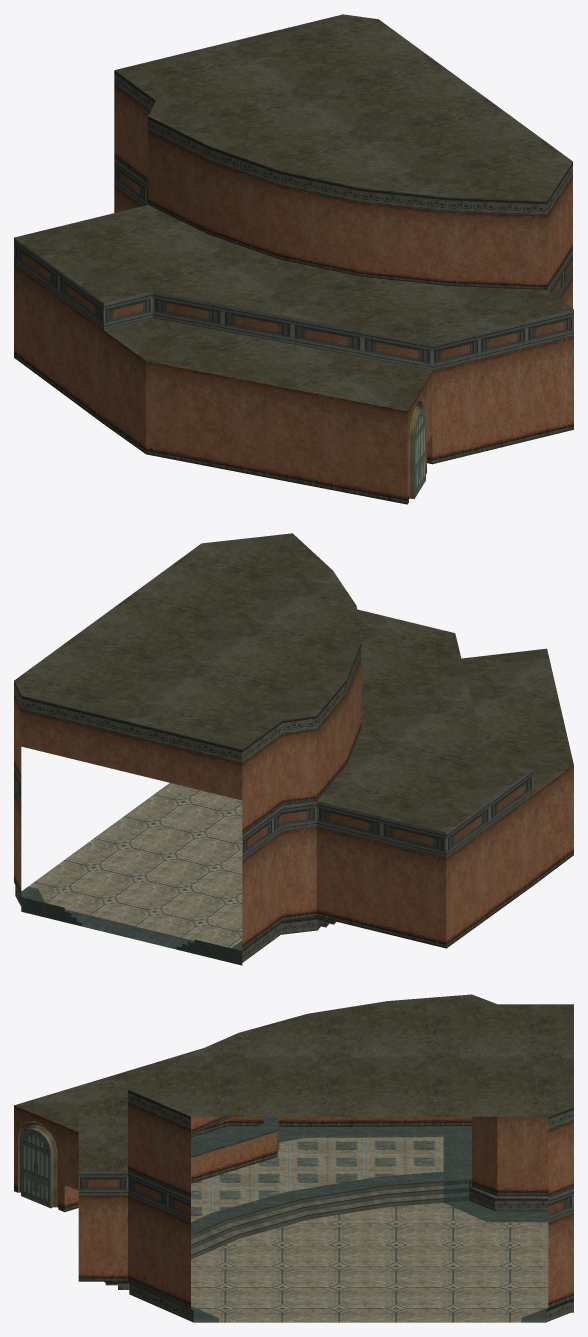
Rendered from mun_tato_hotel_s01_r6_mesh_lobby2.fbx.
3 views of the same model, one above another, from view 1: azimuth 30°, elevation 25°; view 2: azimuth 150°, elevation 25°; view 3: azimuth 270°, elevation 25° (orthographic). The views are drawn at different scales.
Visible parts, largest first — view 1: mesh_node; view 2: mesh_node; view 3: mesh_node.
Part boxes in pixels (x1,y1,x2,y2): mesh_node: (14, 14, 573, 504); mesh_node: (14, 533, 573, 965); mesh_node: (14, 994, 573, 1322).
Bounding box in the file's own units: 16.9 × 8.9 × 21.93.
